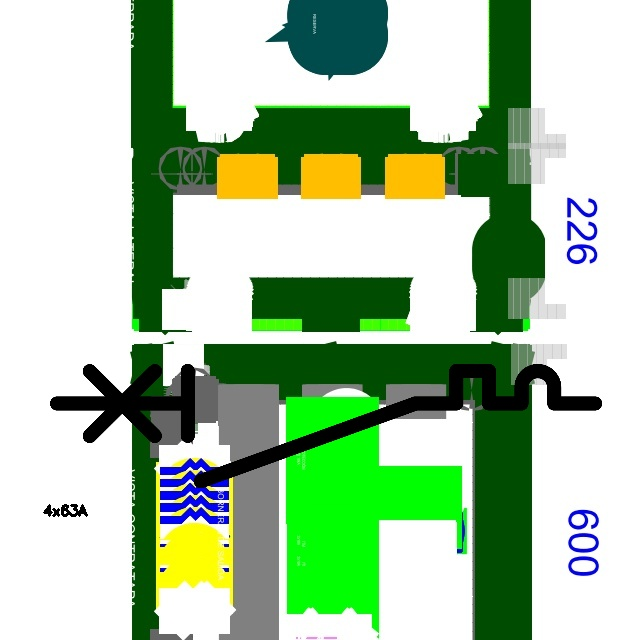interruptor_termomagnetico: (43, 357, 609, 495)
